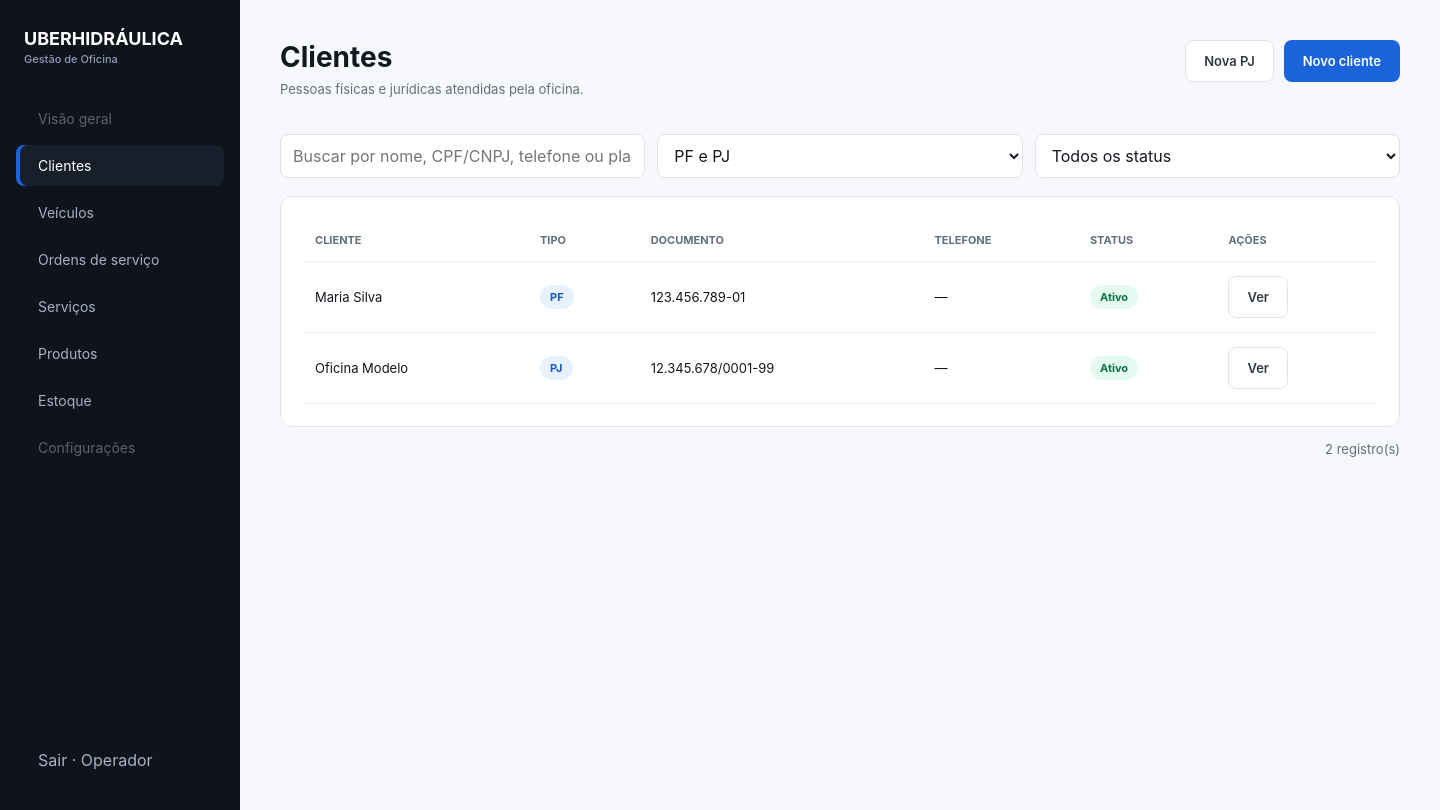
Test: REV-FE-001 busca Inexistente pela interface
Check: the cell "Maria Silva" is shown, box [303,262,528,332]
Type "temporário" into the field named "Buscar clientes" at (463, 156), box [280,134,645,178]
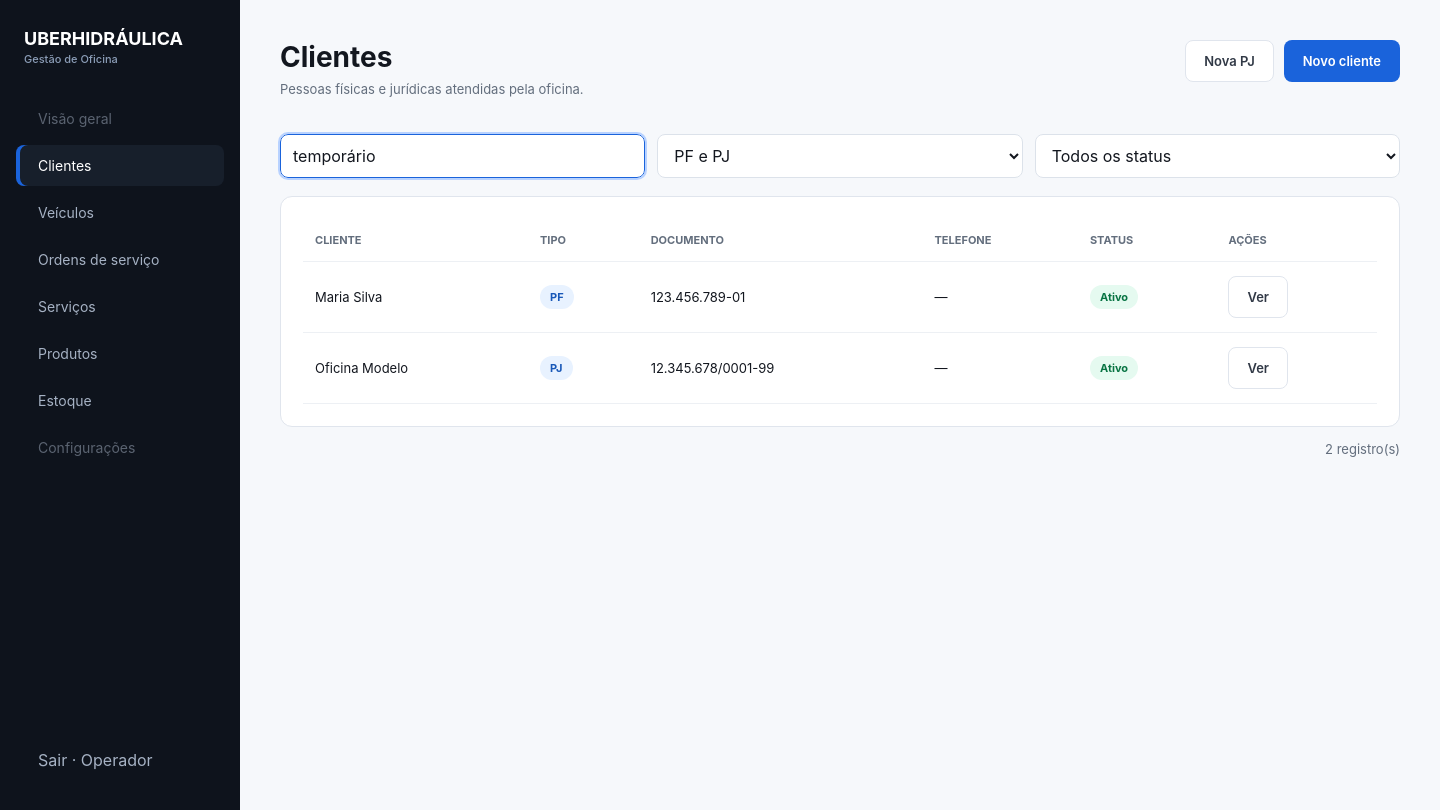
Replace the text in the field named "Buscar clientes" with "Inexistente" at (463, 156), box [280,134,645,178]
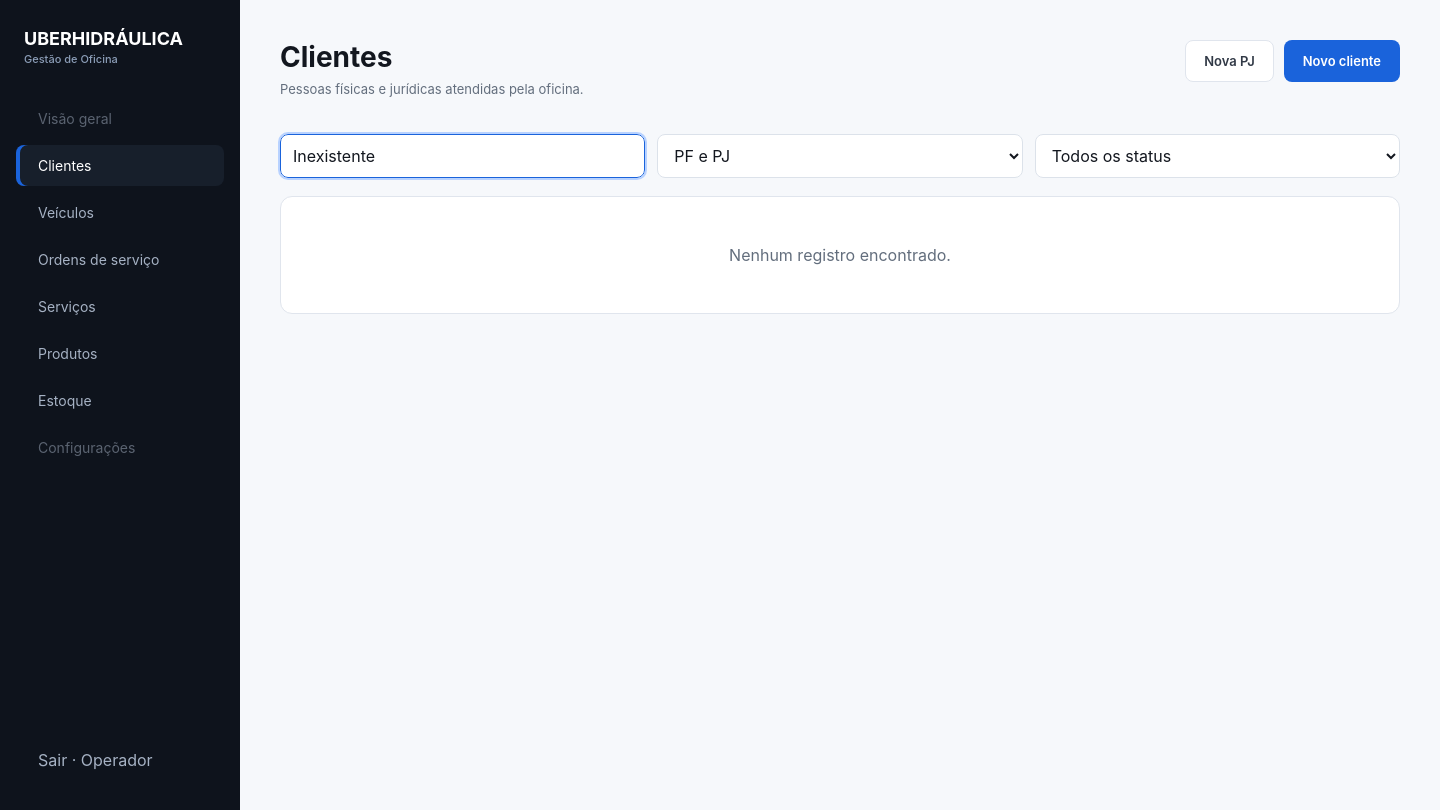
Check: the cell "Maria Silva" is gone
Check: the cell "Oficina Modelo" is gone
Check: the text "Nenhum registro encontrado." is shown, box [280,196,1400,314]
